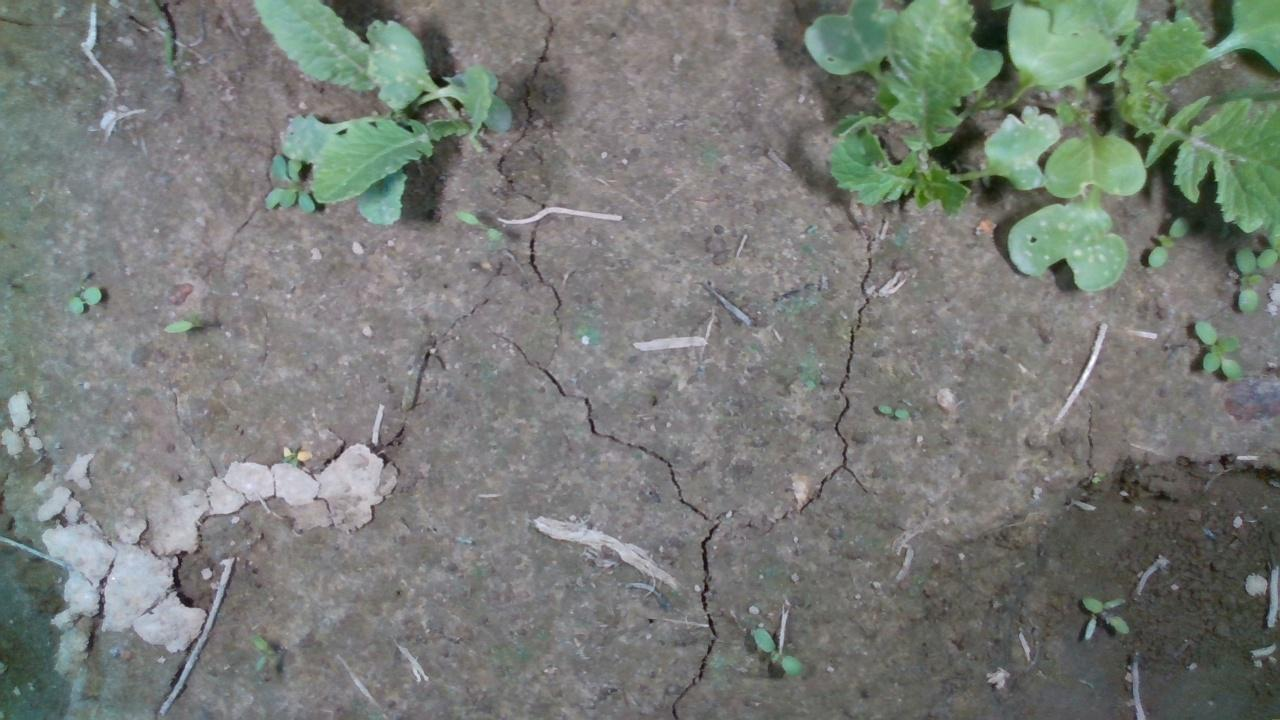weed: (1192, 318, 1242, 382), (750, 626, 805, 676), (1078, 593, 1130, 643), (1146, 213, 1190, 269), (449, 207, 503, 241), (247, 632, 282, 672), (65, 283, 103, 315), (159, 310, 205, 334)
